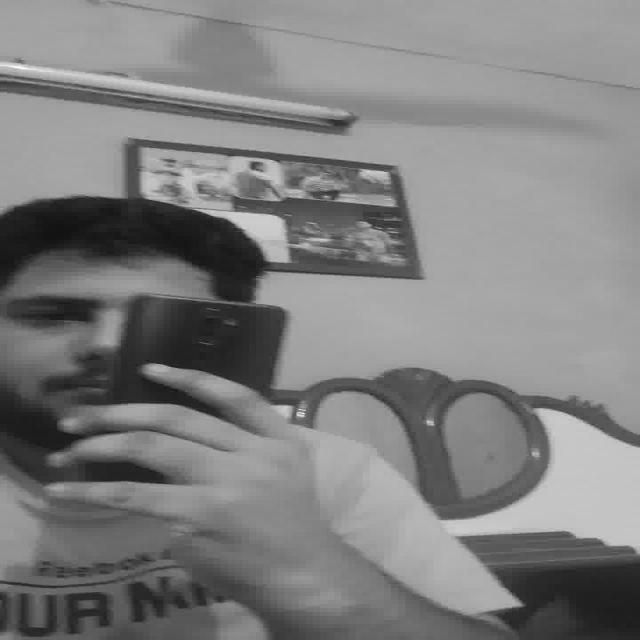fake: (58, 290, 292, 532)
